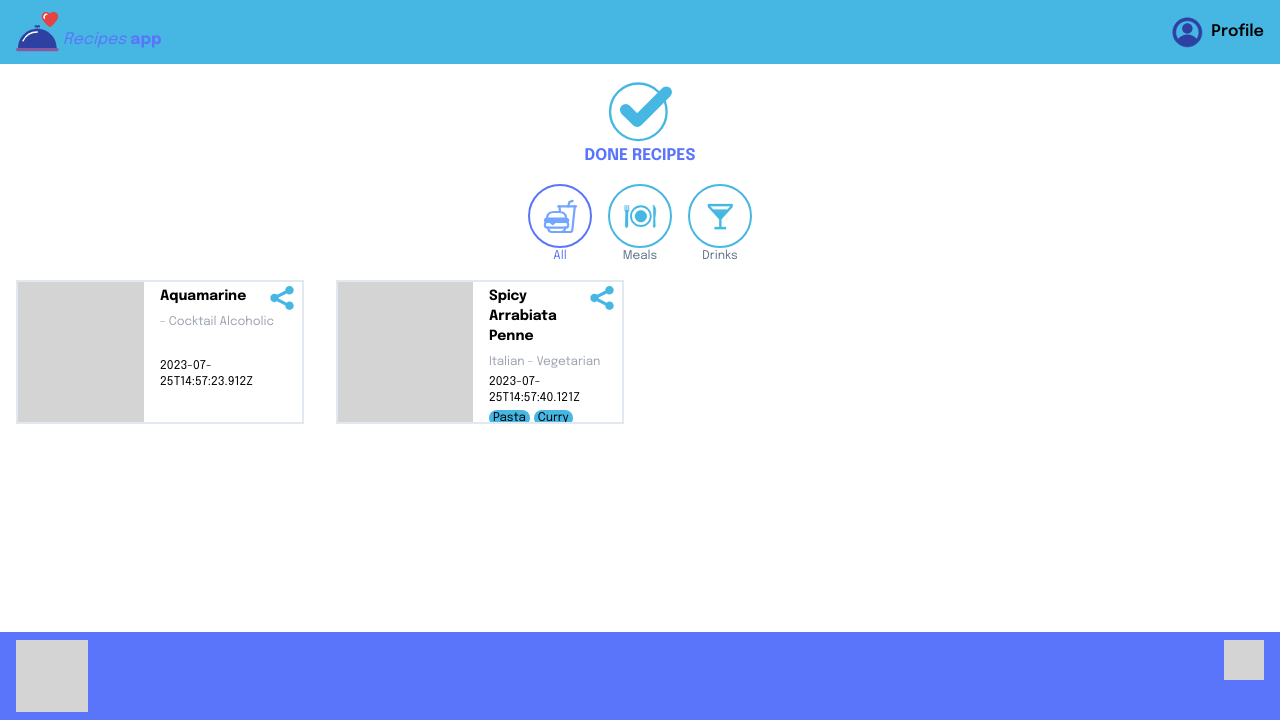
it: done recipes page › should filter by meal
What coordinates should you click on to do the following:
click the button with test id "filter-by-meal-btn"
I would click on:
 (640, 216)
Its box is [608,184,672,248].
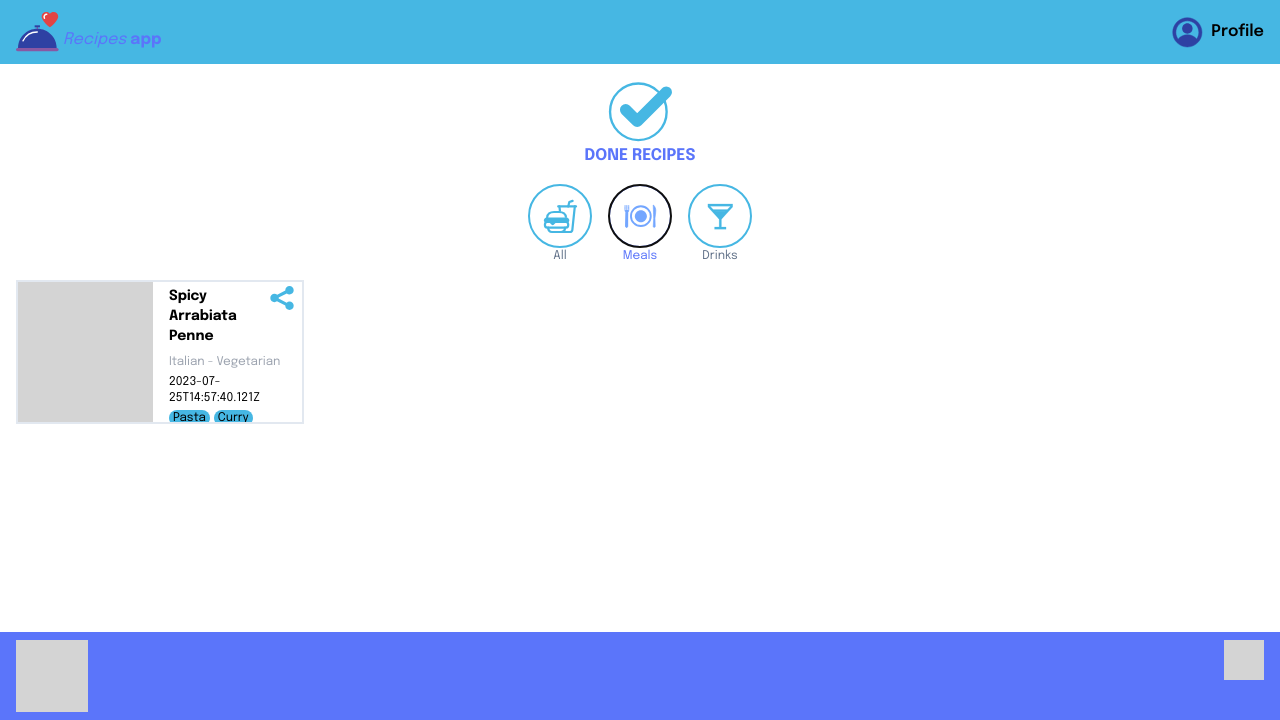
Expected: the link "Aquamarine" is gone
